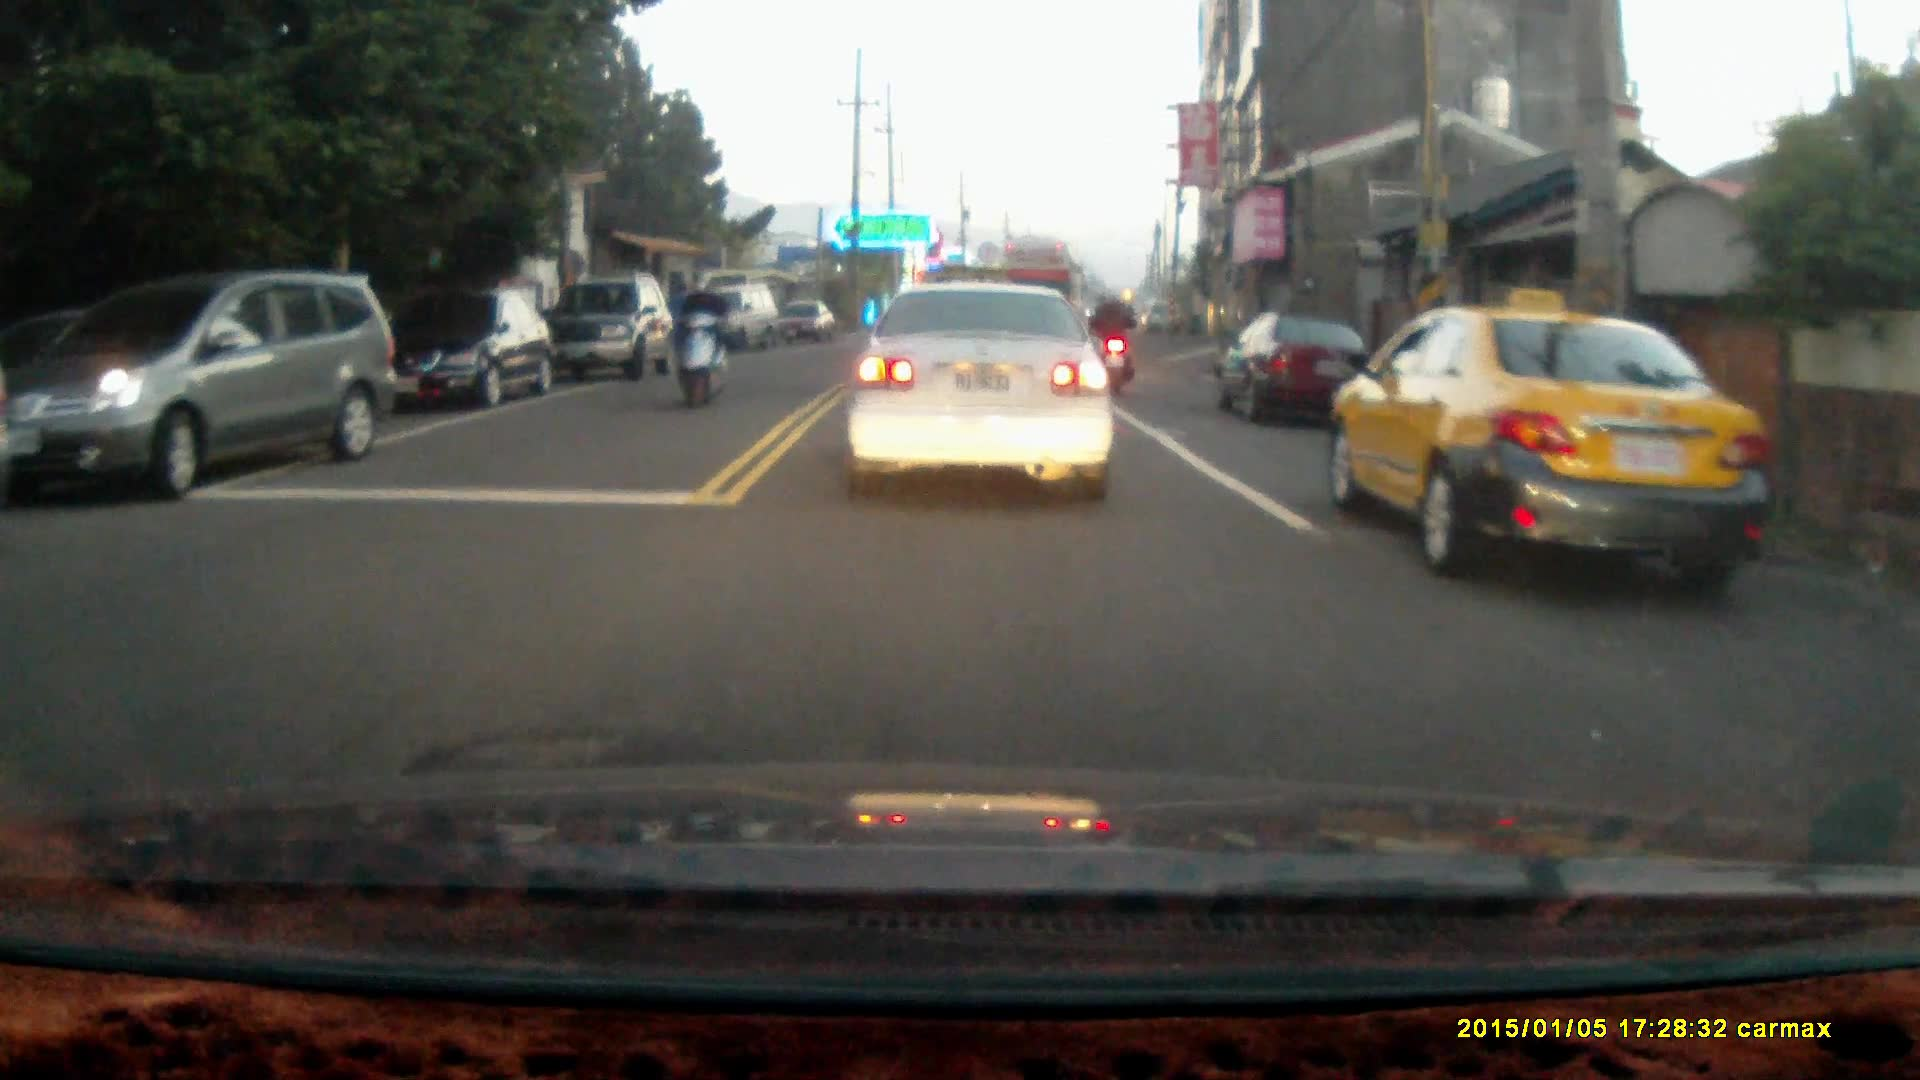pedestrian: (667, 278, 693, 360)
rider: (669, 267, 729, 411), (1083, 283, 1140, 402)
vehicle: (1322, 308, 1777, 592), (1, 269, 398, 503), (847, 284, 1122, 508), (374, 286, 554, 409), (1221, 313, 1380, 422), (543, 272, 681, 382), (685, 286, 783, 358), (769, 299, 840, 346)
